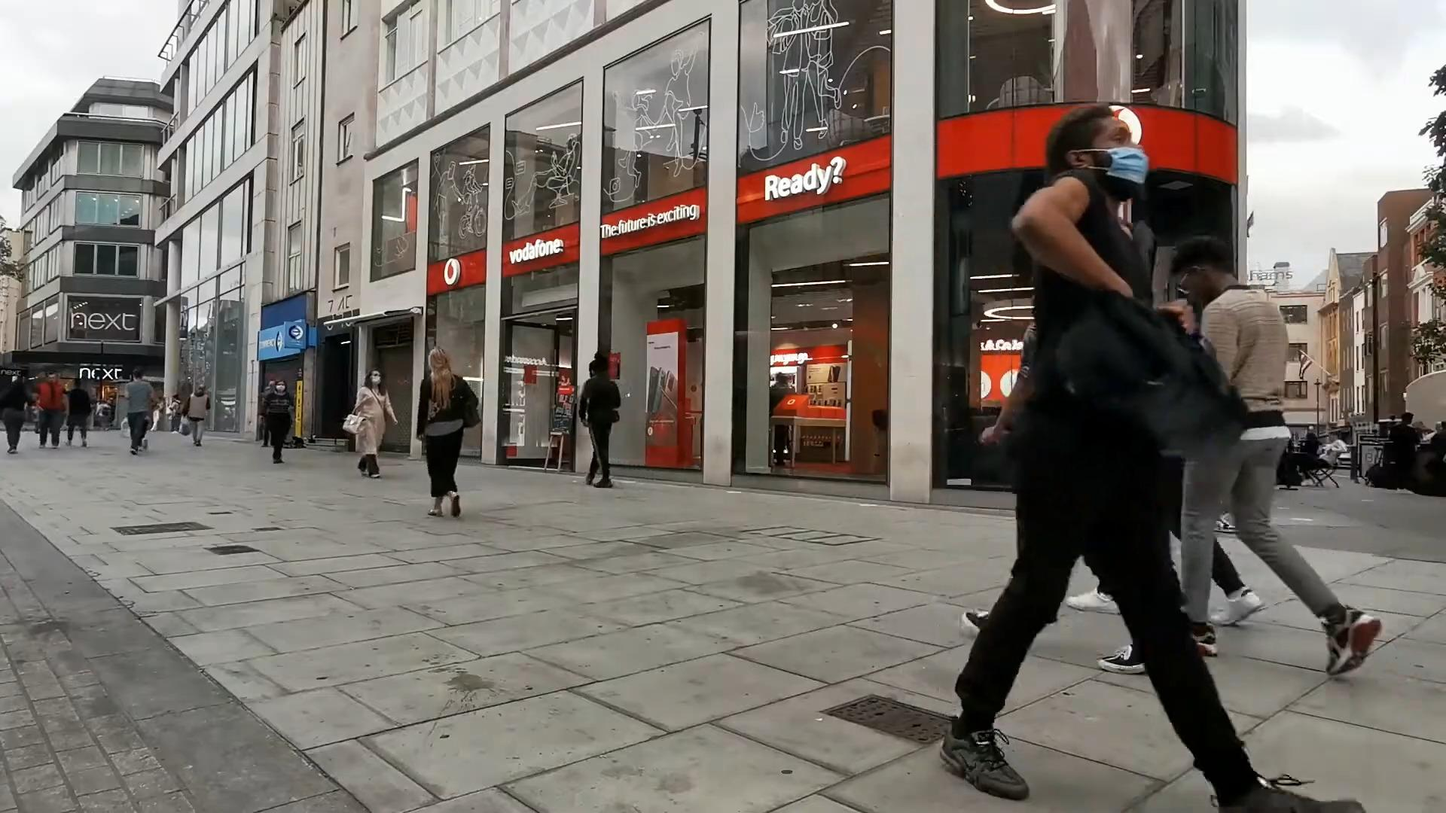no-helmet: (1046, 104, 1149, 201), (1170, 235, 1230, 306), (428, 348, 453, 374), (368, 368, 382, 386), (275, 379, 287, 393)
